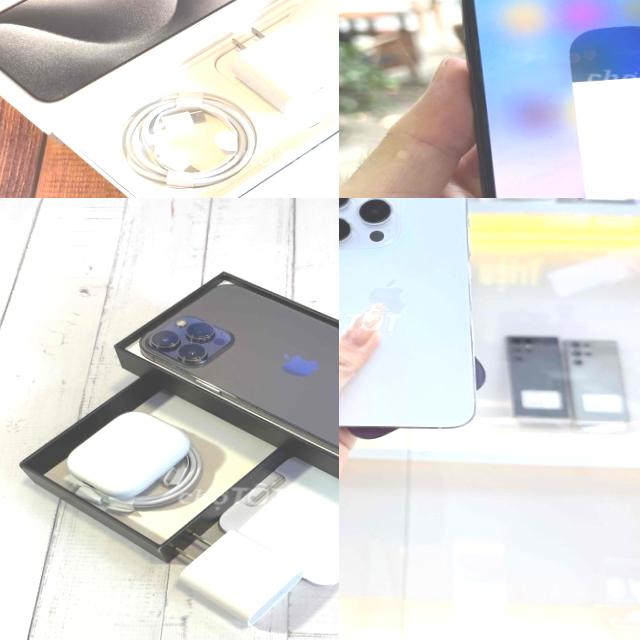gen_11: (442, 0, 640, 198)
gen_12_13: (125, 274, 339, 480)
gen_14: (339, 198, 487, 439)
gen_15: (174, 92, 339, 198)
